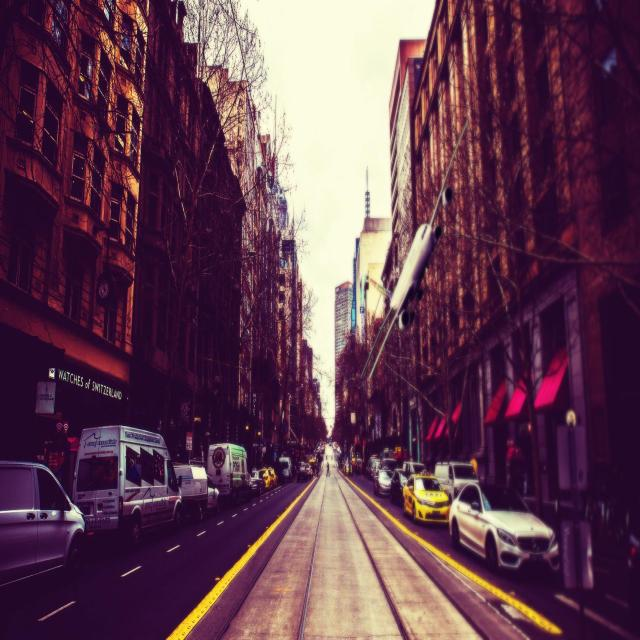airplane: (364, 121, 468, 382)
